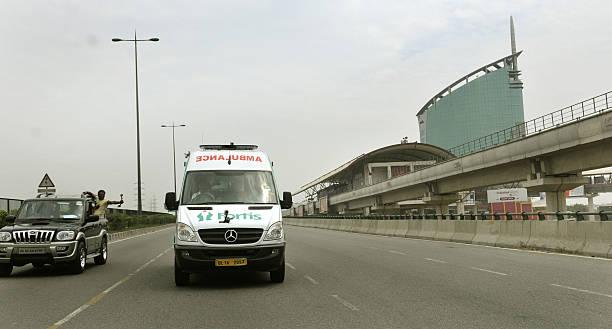AMBULANCE: (186, 140, 268, 182), (194, 206, 271, 235)
